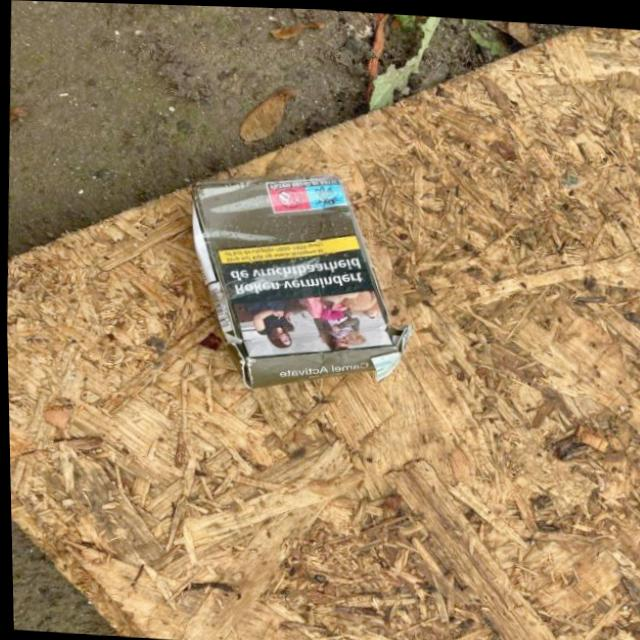Paper: (174, 158, 421, 399)
